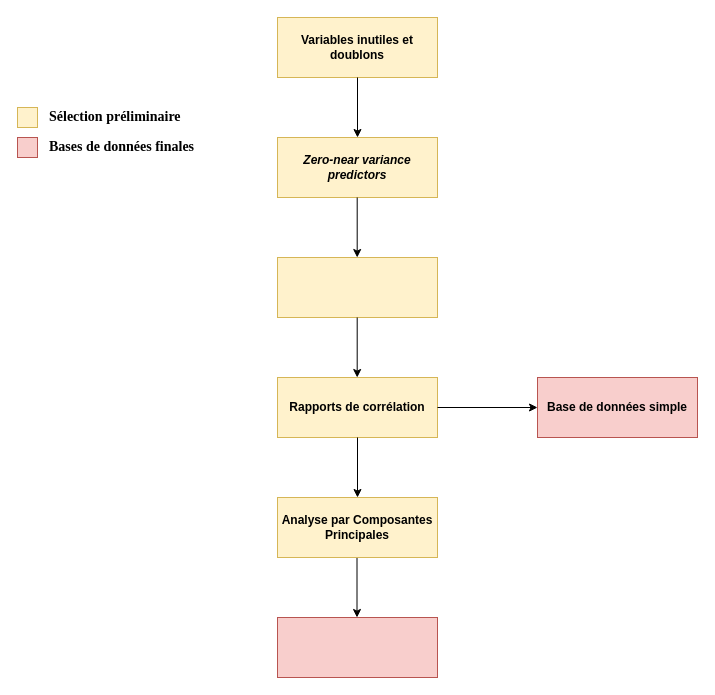
This 715x695 diagram has some shape labels left out. Here are the shapes that lost their labels. From the top down, the centre of each, then its label:
At [357,287]: "VIF".
At [357,647]: "Base de données 'ACP'".
